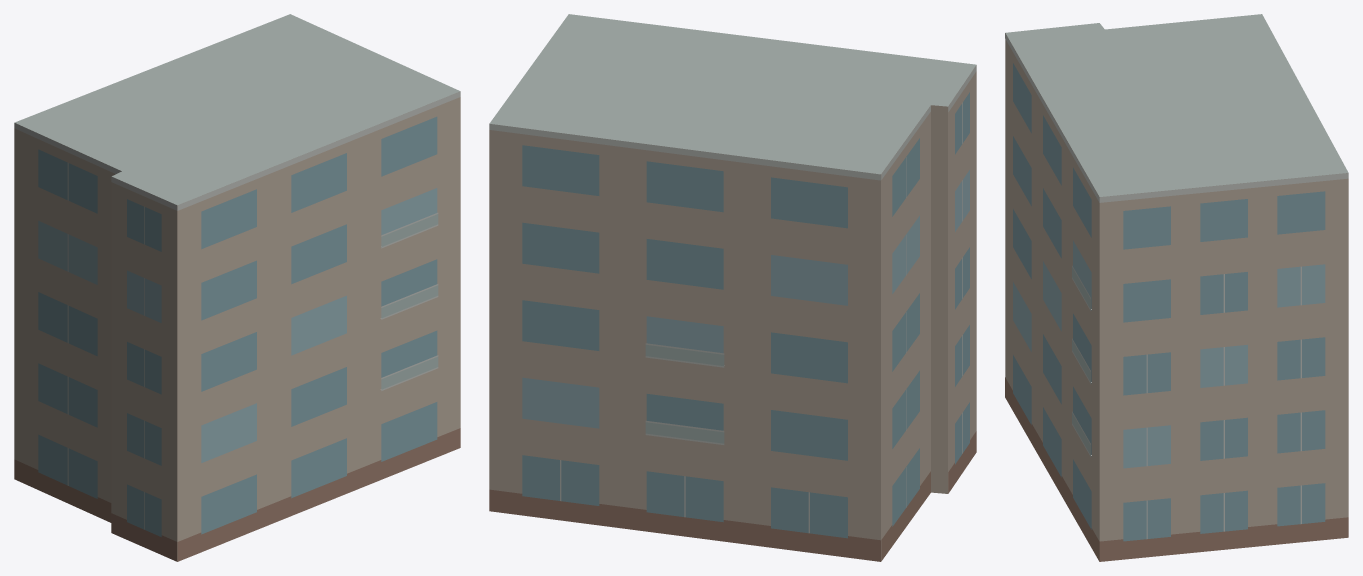
File: survey-upis-32586273.glb
The picture shows the model from 3 angles, left to right: view 1: azimuth 30°, elevation 25°; view 2: azimuth 150°, elevation 25°; view 3: azimuth 270°, elevation 25°; orthographic projection. The views are drawn at different scales.
Parts seen in each view (by area): view 1: survey-upis-32586273.tmp; view 2: survey-upis-32586273.tmp; view 3: survey-upis-32586273.tmp.
Boxes of the visible parts, left/top/right/bottom form: survey-upis-32586273.tmp: left=14, top=14, right=460, bottom=561; survey-upis-32586273.tmp: left=489, top=14, right=976, bottom=561; survey-upis-32586273.tmp: left=1005, top=14, right=1348, bottom=561.
Bounding box in the file's own units: 16.59 × 15.4 × 13.15.
